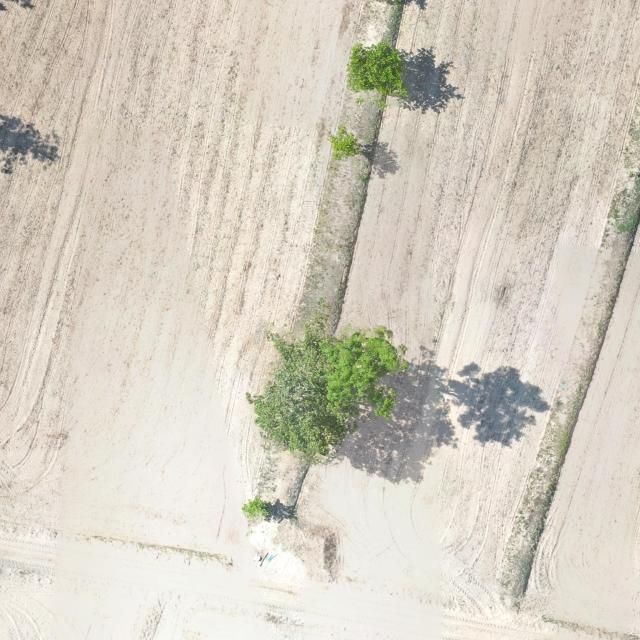Tree: (246, 318, 414, 453), (344, 41, 404, 98), (326, 125, 365, 165), (238, 492, 272, 527)
